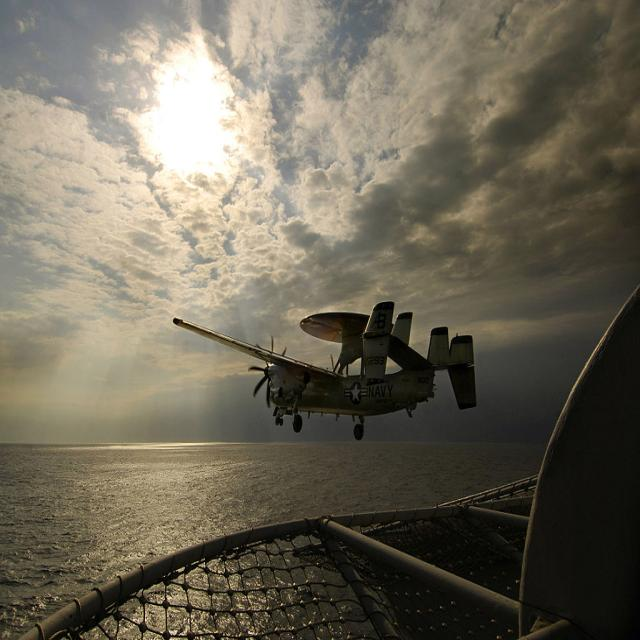MIL_Plane: (172, 296, 478, 435)
